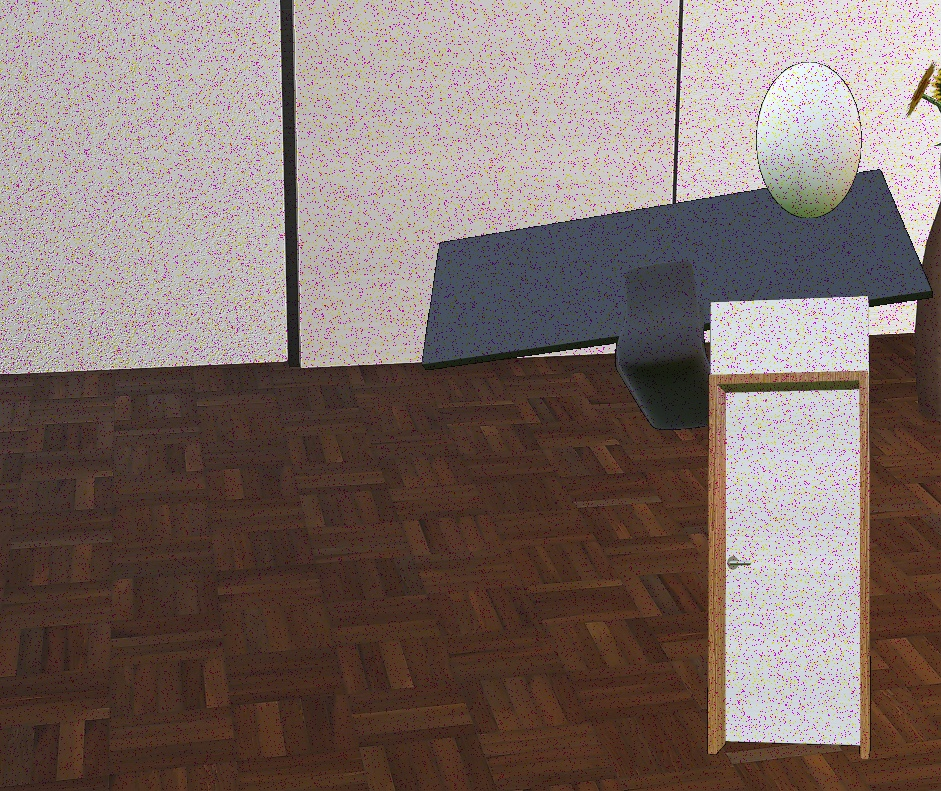monitor: (421, 169, 934, 430)
pelota: (756, 61, 862, 219)
puerta: (707, 295, 871, 760)
